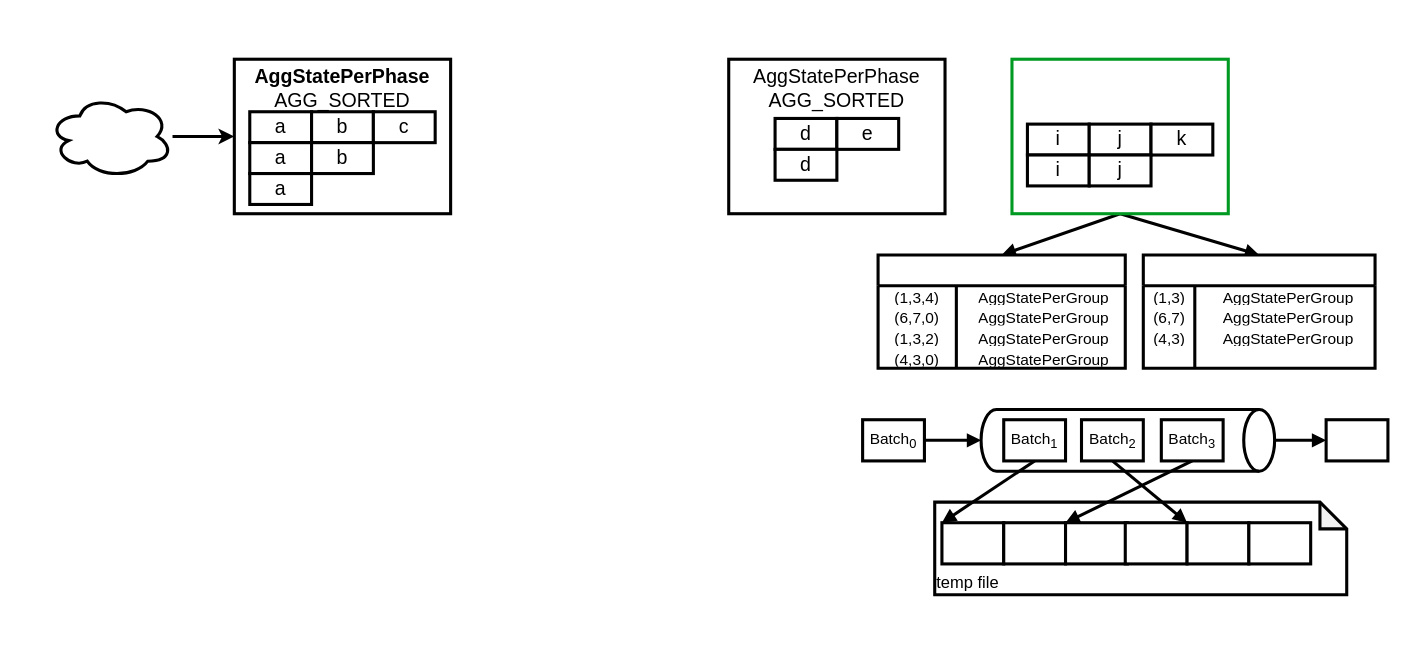
Image size: 1415x663. Some labels were removed from this diagram. Here are the shapes that lost their labels. From the top down, the box of each, then its label:
(47, 93, 174, 179): Вход
(1010, 57, 1229, 215): AggStatePerPhase AGG_MIXED
(876, 253, 1126, 369): i, j, k
(1141, 253, 1376, 369): i, j
(1324, 418, 1389, 462): Batch 4
